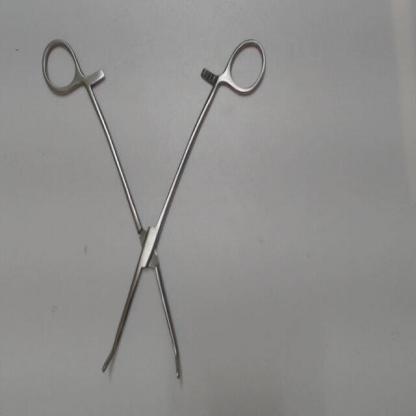Lahey Forceps: (37, 37, 274, 389)
